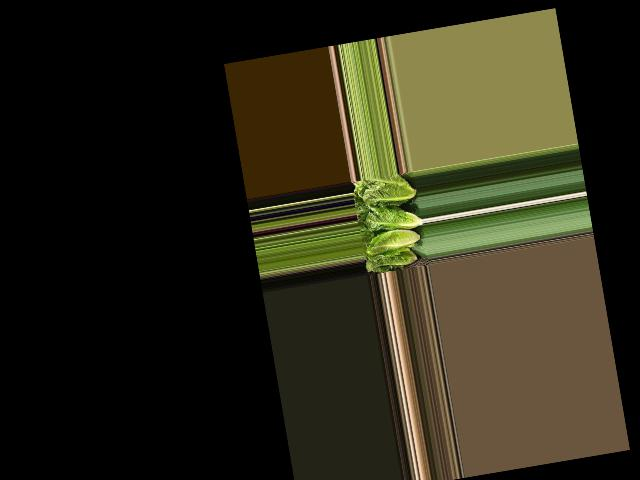lettuce: (364, 248, 416, 271)
